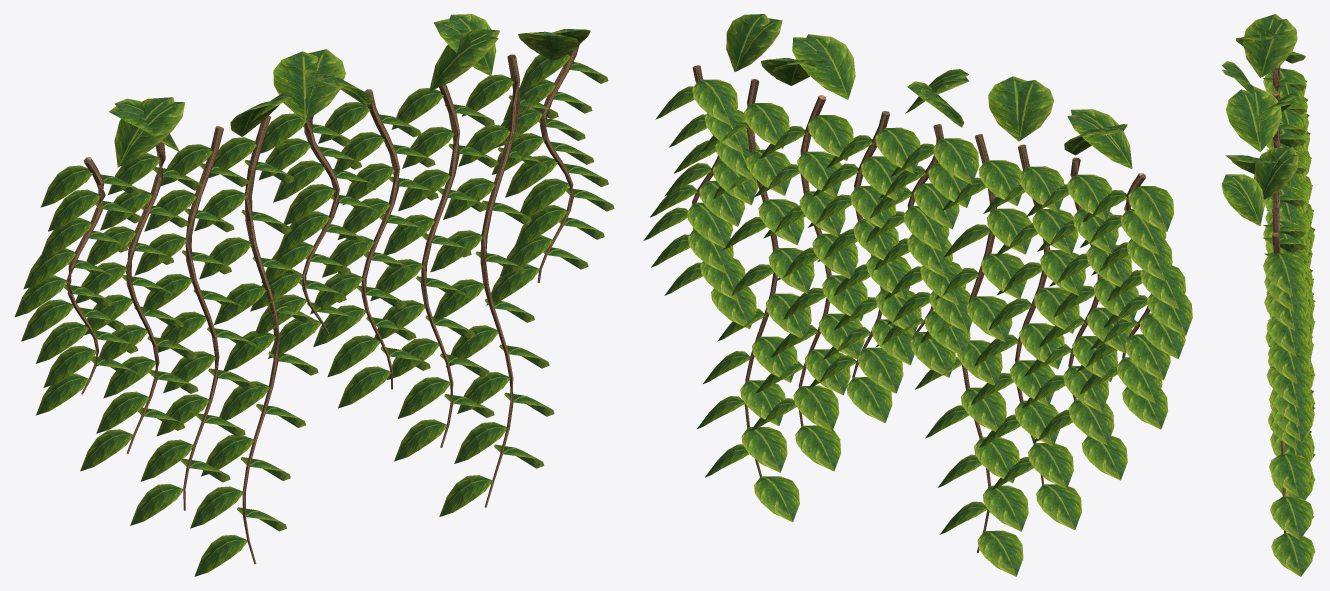
Rendered from HangingVines.fbx.
3 views of the same model, side by side, from view 1: azimuth 30°, elevation 25°; view 2: azimuth 150°, elevation 25°; view 3: azimuth 270°, elevation 25° (orthographic). The views are drawn at different scales.
Parts seen in each view (by area): view 1: HangingVines_LOD0; view 2: HangingVines_LOD0; view 3: HangingVines_LOD0.
Boxes of the visible parts, x1=… form: HangingVines_LOD0: x1=15, y1=14, x2=614, y2=576; HangingVines_LOD0: x1=643, y1=14, x2=1192, y2=576; HangingVines_LOD0: x1=1221, y1=14, x2=1315, y2=576.
Size of what is drawn, in the model's own units: 5.72 by 4.62 by 0.9658.
